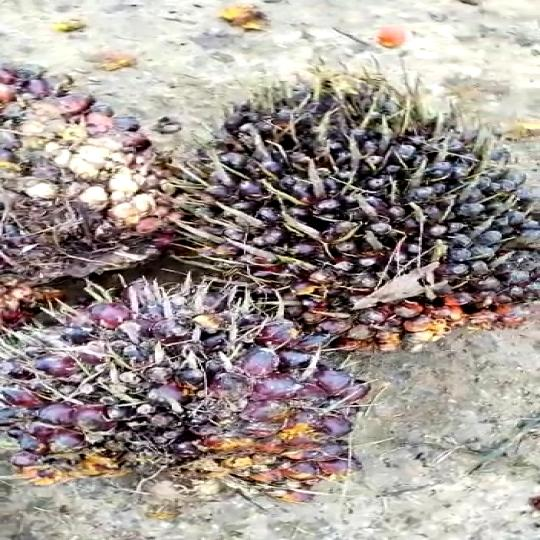kurang masak: (173, 70, 540, 363), (0, 281, 387, 508), (0, 67, 211, 300)
